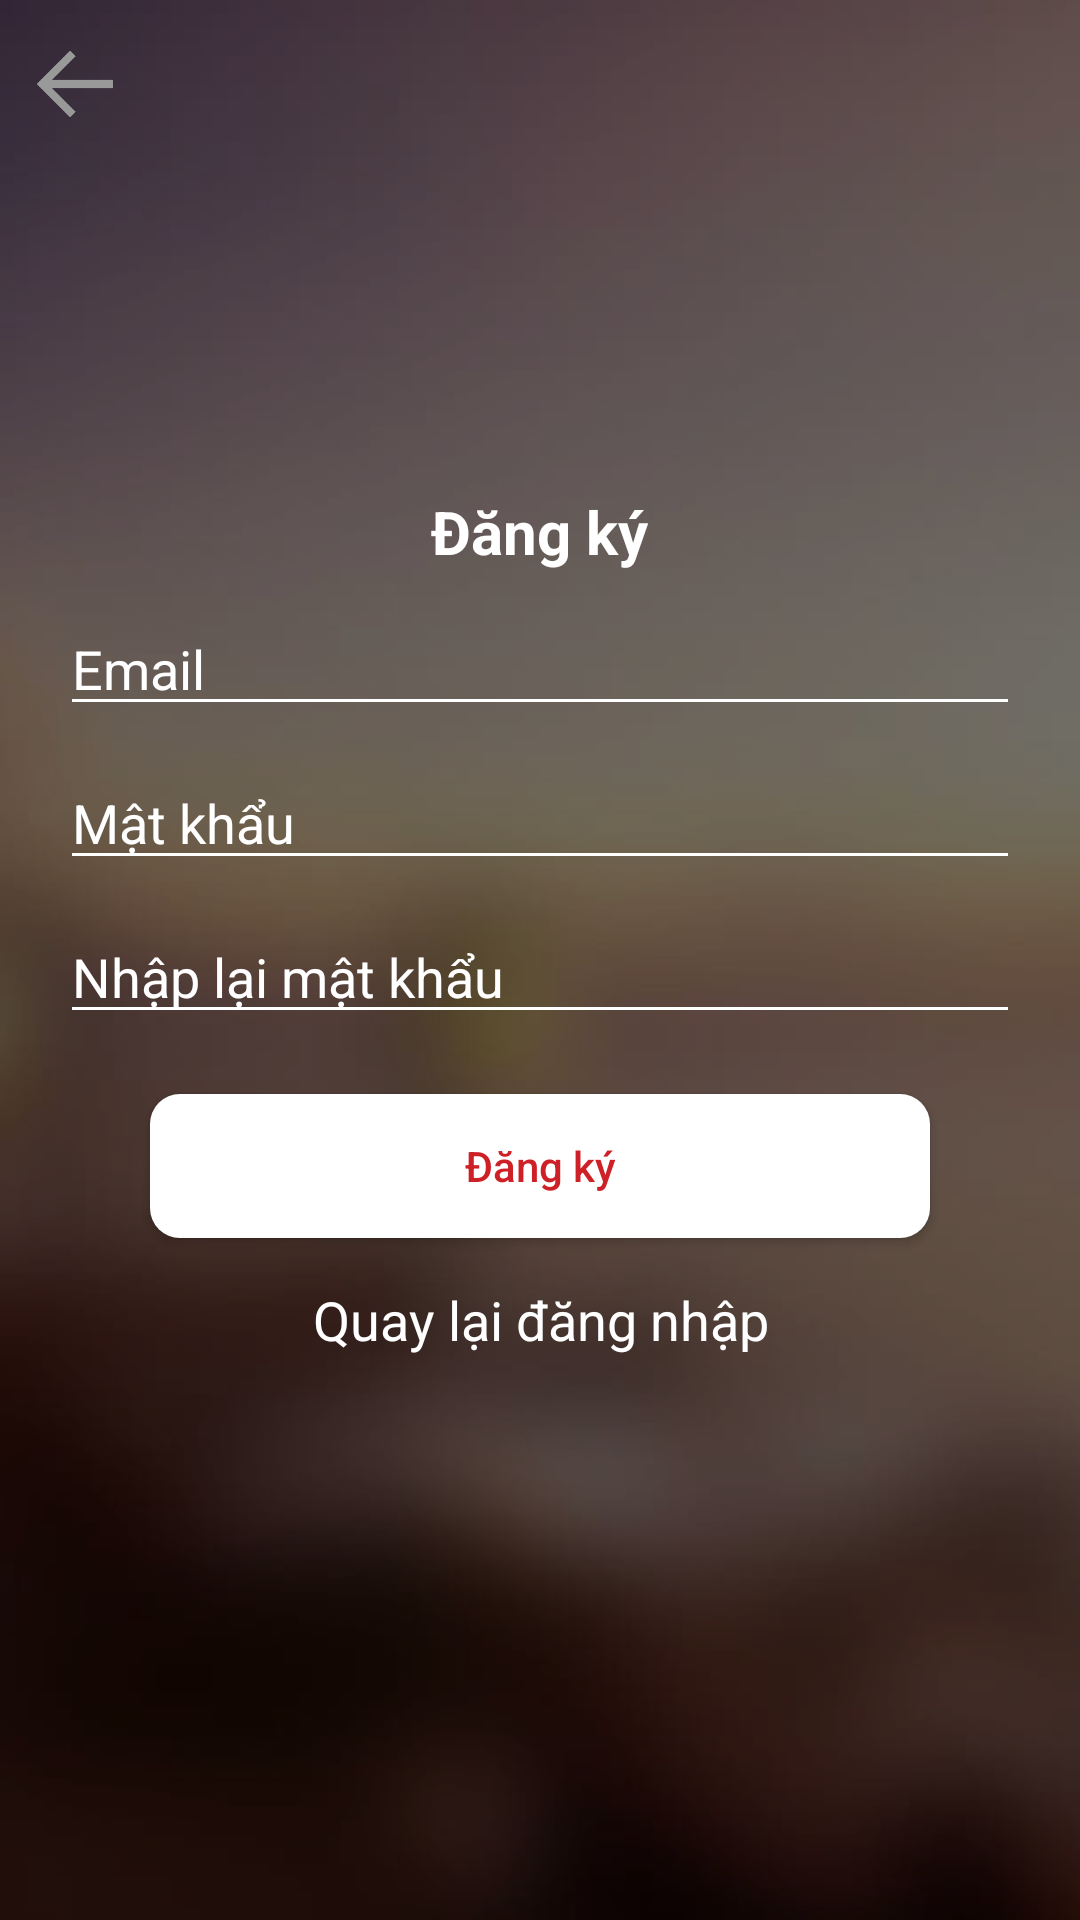

Screen size 1080 x 1920. Icon name, then its box in pixels as Rect(x1, y1, x2, y2):
back: Rect(37, 51, 113, 117)
